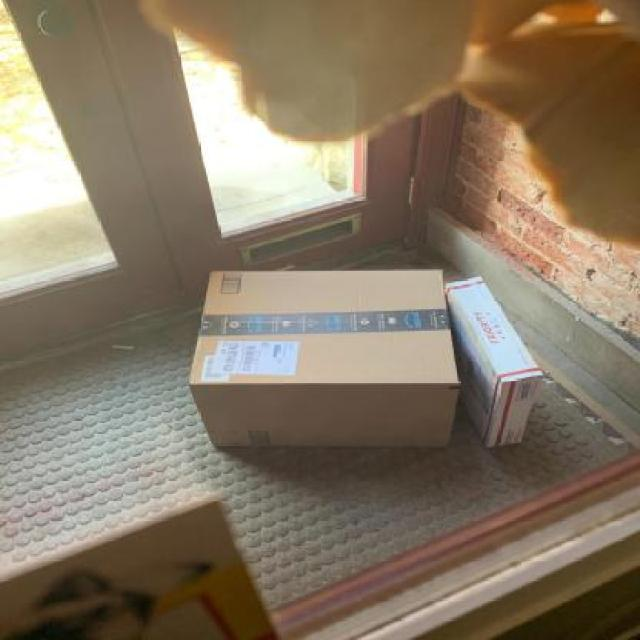cardboxes: (186, 269, 460, 448), (448, 275, 543, 448)
